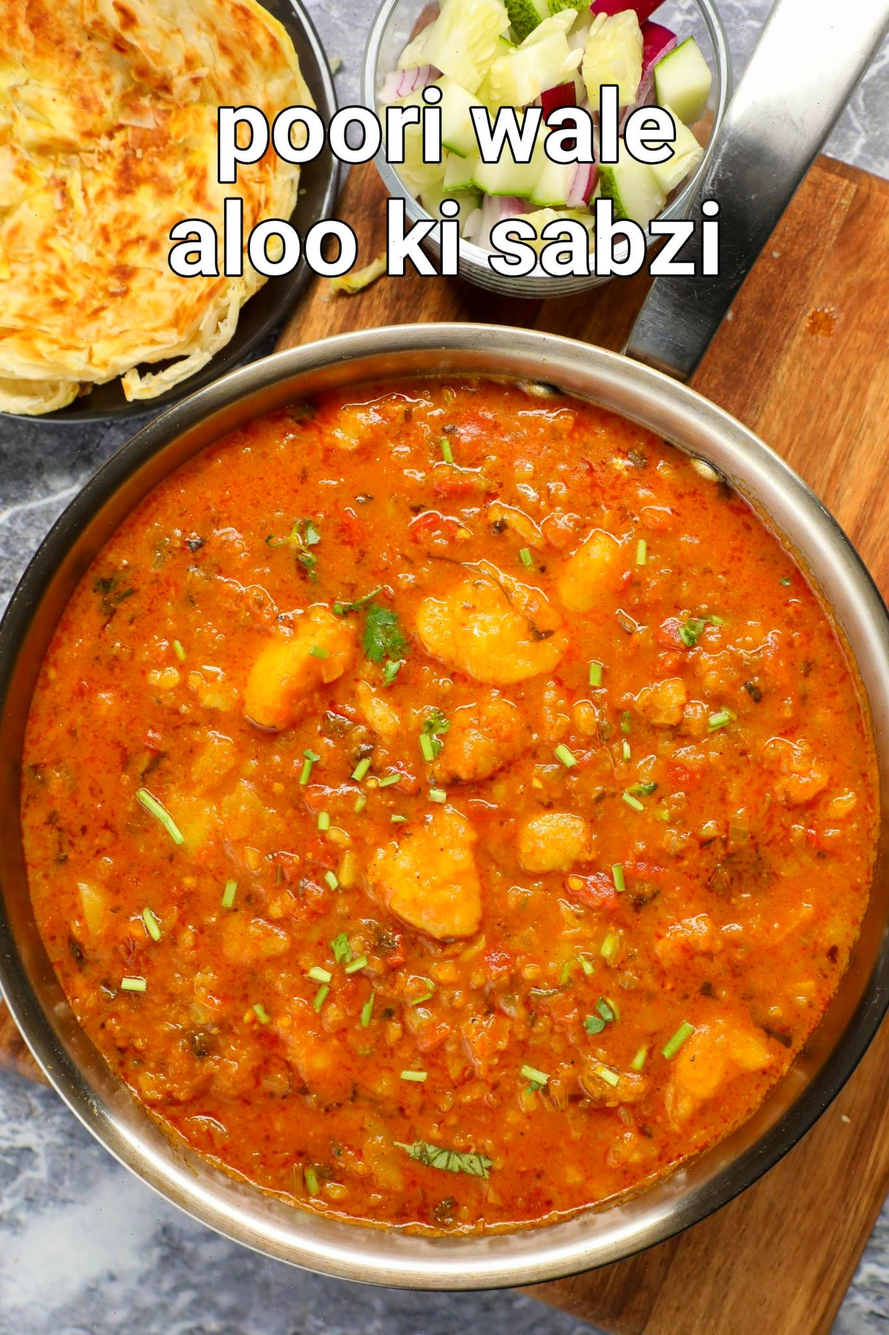aloo sabji: (48, 372, 889, 1235)
